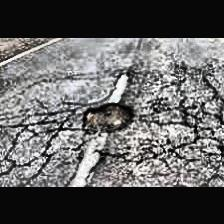pothole: (81, 102, 135, 134)
